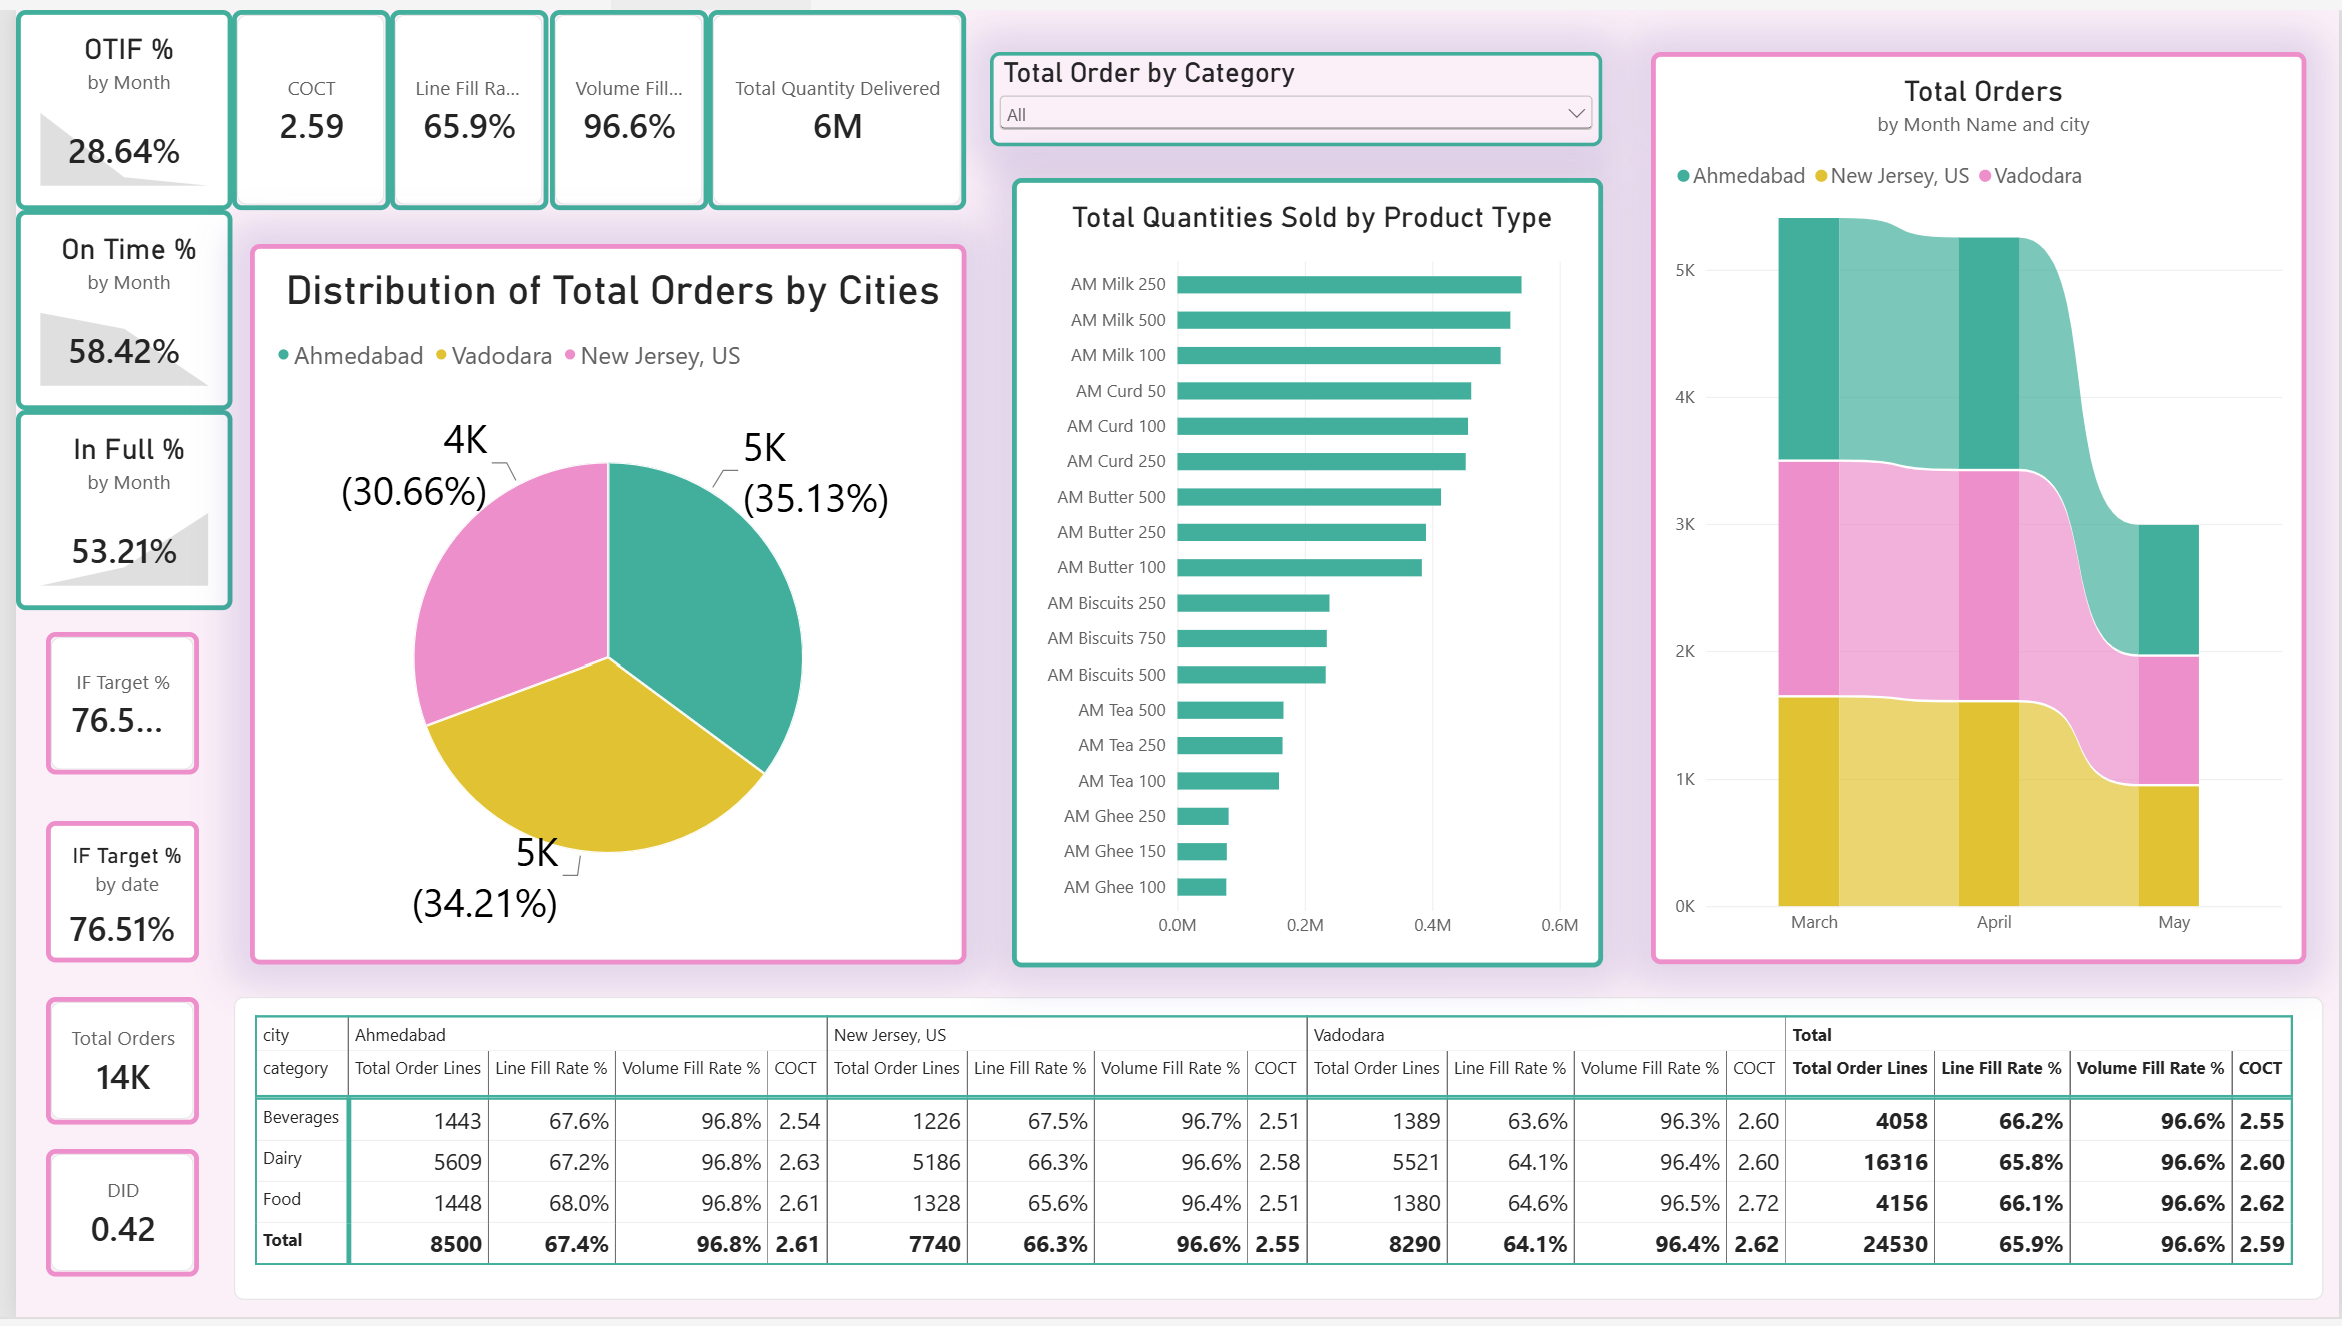

Layout of this report page (visuals, bound fields, positions):
{"tool":"powerbi","page":{"name":"Overview","canvas":[1920,1080],"ordinal":0},"visuals":[{"type":"kpi","fields":{"Indicator":["Key Measures.OTIF %"],"TrendLine":["dim_date.Month"]},"box":[0,0,179.1,165.4],"z":0},{"type":"kpi","fields":{"Indicator":["Key Measures.On Time %"],"TrendLine":["dim_date.Month"]},"box":[0,165.4,179.1,165.4],"z":1000},{"type":"kpi","fields":{"Indicator":["Key Measures.In Full %"],"TrendLine":["dim_date.Month"]},"box":[0,330.7,179.1,165.4],"z":2000},{"type":"cardVisual","fields":{"Data":["Key Measures.COCT"]},"box":[179.1,0,130.9,165.4],"z":3000},{"type":"cardVisual","fields":{"Data":["Key Measures.Line Fill Rate %"]},"box":[310,0,130.9,165.4],"z":4000},{"type":"cardVisual","fields":{"Data":["Key Measures.Volume Fill Rate %"]},"box":[441,0,130.9,165.4],"z":5000},{"type":"slicer","title":"Total Orders","fields":{"Values":["dim_products.category"]},"box":[806.1,34.4,505.3,78.1],"z":6000},{"type":"kpi","fields":{"Indicator":["Key Measures.IF Target %"],"TrendLine":["dim_date.date"]},"box":[25.3,670.6,126.3,117.1],"z":7000},{"type":"cardVisual","fields":{"Data":["Key Measures.IF Target %"]},"box":[25.3,514.4,126.3,117.1],"z":8000},{"type":"pieChart","title":"Distribution of Total Orders by Cities","fields":{"Category":["dim_customers.city"],"Y":["Key Measures.Total Orders"]},"box":[192.9,192.9,592.5,594.8],"z":9000},{"type":"pivotTable","fields":{"Columns":["dim_customers.city"],"Rows":["dim_products.category"],"Values":["Key Measures.Total Order Lines","Key Measures.Line Fill Rate %","Key Measures.Volume Fill Rate %","Key Measures.COCT"]},"box":[179.8,814.7,1726.9,250.5],"z":10000},{"type":"cardVisual","fields":{"Data":["Key Measures.DID"]},"box":[25.3,941.6,126.3,105.6],"z":11000},{"type":"cardVisual","fields":{"Data":["Key Measures.Total Orders"]},"box":[25.3,815.3,126.3,105.6],"z":12000},{"type":"cardVisual","fields":{"Data":["Key Measures.Total Quantity Delivered"]},"box":[571.9,0,213.6,165.4],"z":13000},{"type":"clusteredBarChart","title":"Total Quantities Sold by Product Type","fields":{"Category":["dim_products.product_name"],"Y":["Key Measures.Total Quantity Delivered"]},"box":[824.1,138.2,488,651.8],"z":14000},{"type":"ribbonChart","fields":{"Category":["dim_date.Month Name"],"Series":["dim_customers.city"],"Y":["Key Measures.Total Orders"]},"box":[1350.4,34.4,542,753.3],"z":15000}]}

Visuals, with their boxes in screenshot pixels (x1, y1, x2, y2), scaled from the page's 1920x1080 canvas onto the 2342x1326 screenshot:
kpi - Key Measures.OTIF % x dim_date.Month: x1=0, y1=0, x2=218, y2=203
kpi - Key Measures.On Time % x dim_date.Month: x1=0, y1=203, x2=218, y2=406
kpi - Key Measures.In Full % x dim_date.Month: x1=0, y1=406, x2=218, y2=609
cardVisual - Key Measures.COCT: x1=218, y1=0, x2=378, y2=203
cardVisual - Key Measures.Line Fill Rate %: x1=378, y1=0, x2=538, y2=203
cardVisual - Key Measures.Volume Fill Rate %: x1=538, y1=0, x2=698, y2=203
"Total Orders" slicer: x1=983, y1=42, x2=1600, y2=138
kpi - Key Measures.IF Target % x dim_date.date: x1=31, y1=823, x2=185, y2=967
cardVisual - Key Measures.IF Target %: x1=31, y1=632, x2=185, y2=775
"Distribution of Total Orders by Cities" pieChart: x1=235, y1=237, x2=958, y2=967
pivotTable - dim_customers.city x dim_products.category: x1=219, y1=1000, x2=2326, y2=1308
cardVisual - Key Measures.DID: x1=31, y1=1156, x2=185, y2=1286
cardVisual - Key Measures.Total Orders: x1=31, y1=1001, x2=185, y2=1131
cardVisual - Key Measures.Total Quantity Delivered: x1=698, y1=0, x2=958, y2=203
"Total Quantities Sold by Product Type" clusteredBarChart: x1=1005, y1=170, x2=1600, y2=970
ribbonChart - dim_date.Month Name x dim_customers.city: x1=1647, y1=42, x2=2308, y2=967
